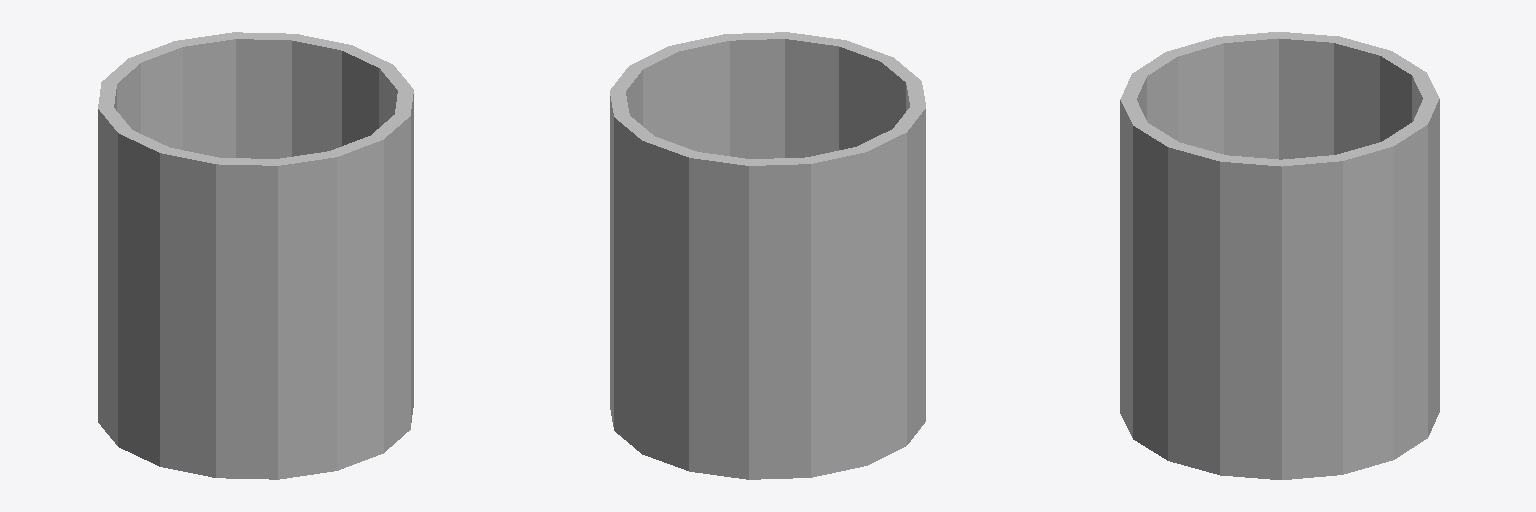
The model's file is glass_2.obj.
The picture shows the model from 3 angles: view 1: azimuth 30°, elevation 25°; view 2: azimuth 150°, elevation 25°; view 3: azimuth 270°, elevation 25°; orthographic projection.
Visible parts, largest first — view 1: glass_2; view 2: glass_2; view 3: glass_2.
Boxes of the visible parts, box(x1,y1,x2,y2) form: glass_2: box(98, 32, 413, 479); glass_2: box(610, 32, 925, 479); glass_2: box(1120, 32, 1439, 479).
Bounding box in the file's own units: 7.79 × 8.45 × 7.79.